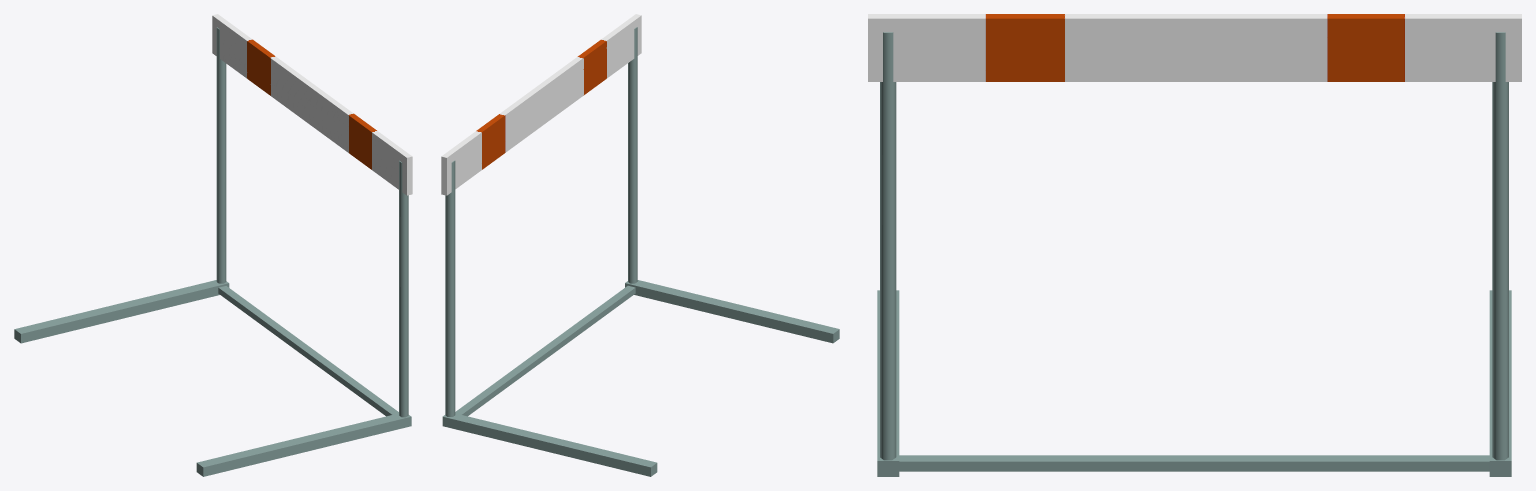
The model's file is HURDLE__400m_man.FBX.
3 views of the same model, side by side, from view 1: azimuth 30°, elevation 25°; view 2: azimuth 150°, elevation 25°; view 3: azimuth 270°, elevation 25° (orthographic). The views are drawn at different scales.
Parts seen in each view (by area): view 1: HURDLE__400m_man; view 2: HURDLE__400m_man; view 3: HURDLE__400m_man.
Part boxes in pixels (x1,y1,x2,y2): HURDLE__400m_man: [14, 14, 412, 476]; HURDLE__400m_man: [441, 14, 839, 476]; HURDLE__400m_man: [868, 14, 1521, 476].
Bounding box in the file's own units: 7.32 × 9.14 × 11.85.
